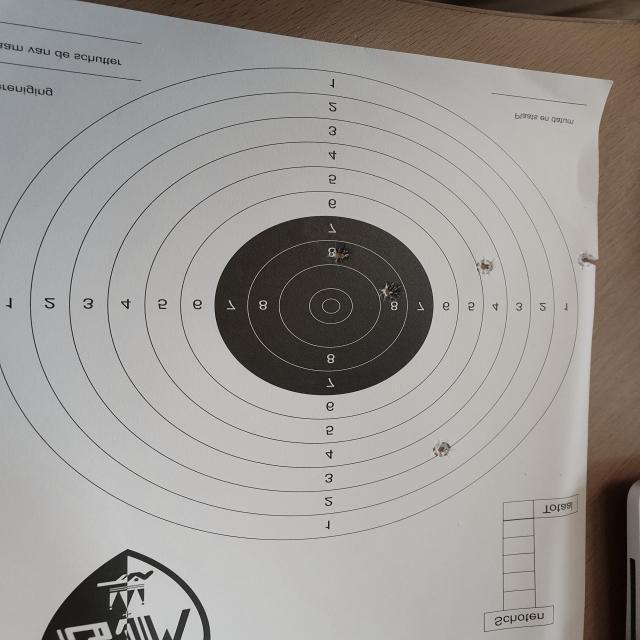0: (570, 250, 596, 271)
3: (427, 441, 458, 458)
5: (471, 255, 499, 278)
8: (324, 244, 354, 270)
9: (374, 278, 404, 304)
Target: (0, 68, 573, 540)
black_contour: (216, 216, 434, 396)
